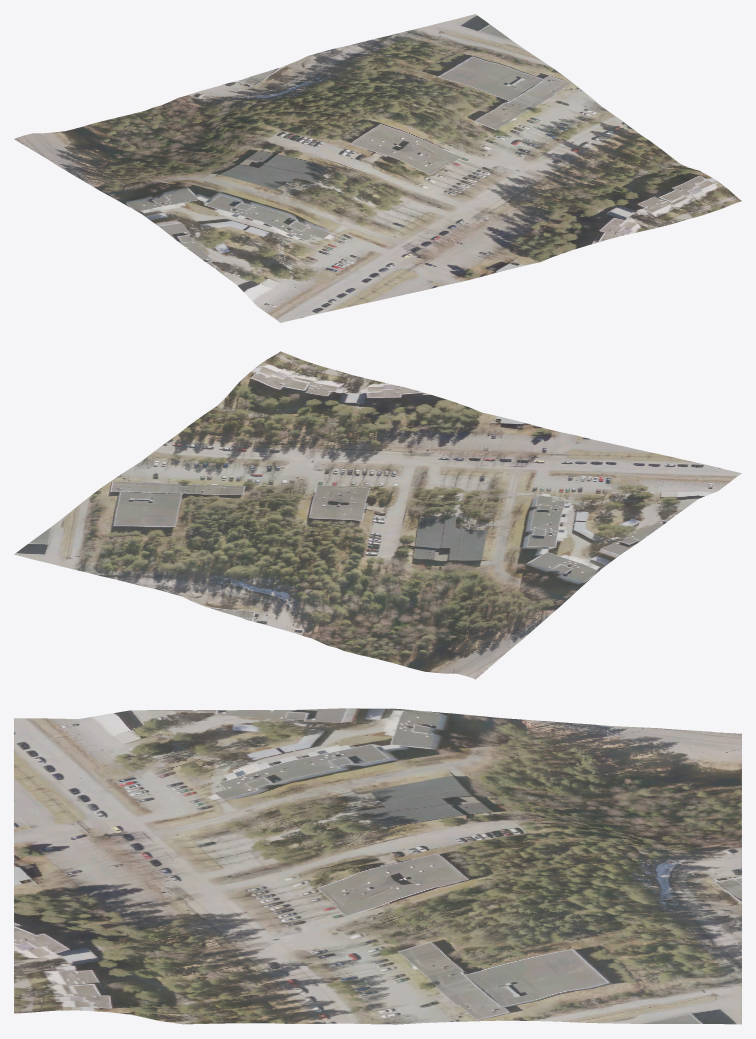
File: CM_Terrain_24492097_6816108.fbx
The picture shows the model from 3 angles, top to bottom: view 1: azimuth 30°, elevation 25°; view 2: azimuth 150°, elevation 25°; view 3: azimuth 270°, elevation 25°; orthographic projection. The views are drawn at different scales.
Parts seen in each view (by area): view 1: CM_Terrain_24492097_6816108_LOD0; view 2: CM_Terrain_24492097_6816108_LOD0; view 3: CM_Terrain_24492097_6816108_LOD0.
Part boxes in pixels (x1,y1,x2,y2): CM_Terrain_24492097_6816108_LOD0: [14, 14, 741, 322]; CM_Terrain_24492097_6816108_LOD0: [14, 351, 741, 679]; CM_Terrain_24492097_6816108_LOD0: [14, 708, 741, 1024].
Size of what is drawn, in the model's own units: 205 by 13.15 by 205.
